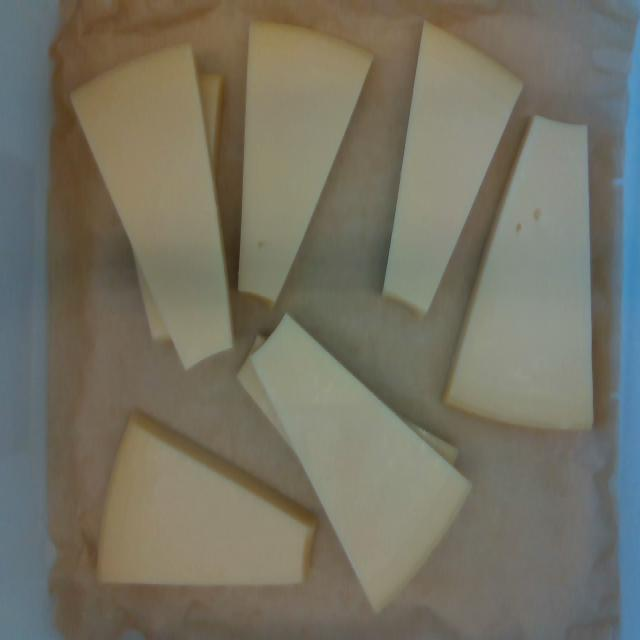cheese: (252, 315, 472, 608), (73, 47, 230, 368), (445, 117, 590, 425), (384, 23, 520, 312), (239, 24, 370, 300), (100, 420, 313, 584)
